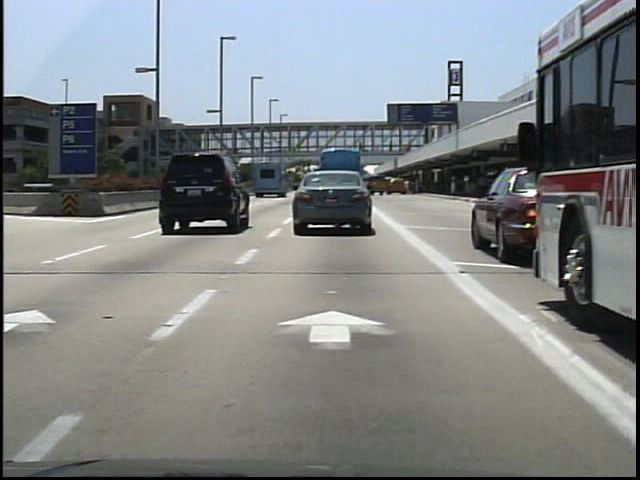person: (399, 176, 413, 199), (384, 136, 398, 158), (353, 136, 366, 157)
